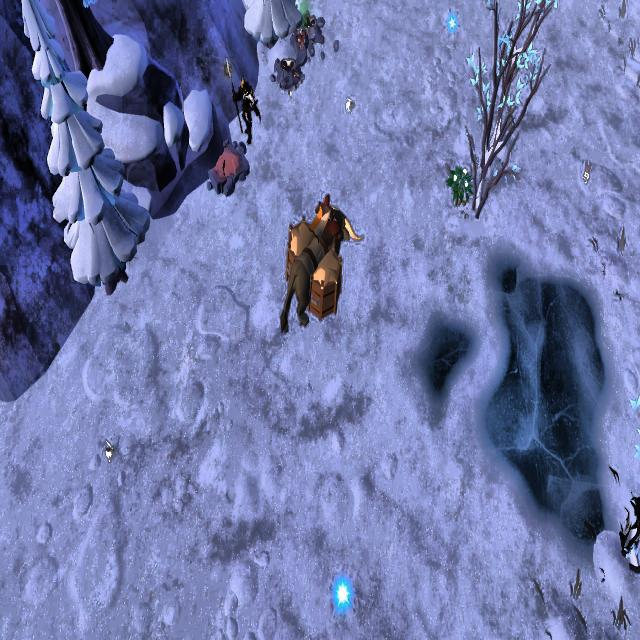fiber_t3: (446, 166, 474, 211)
